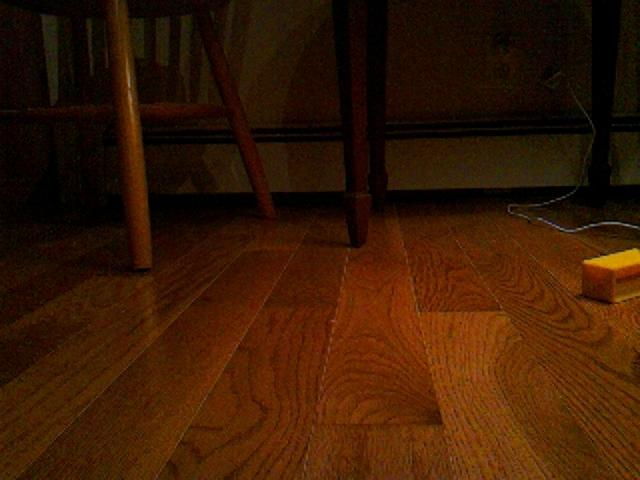yellow: (580, 245, 640, 304)
